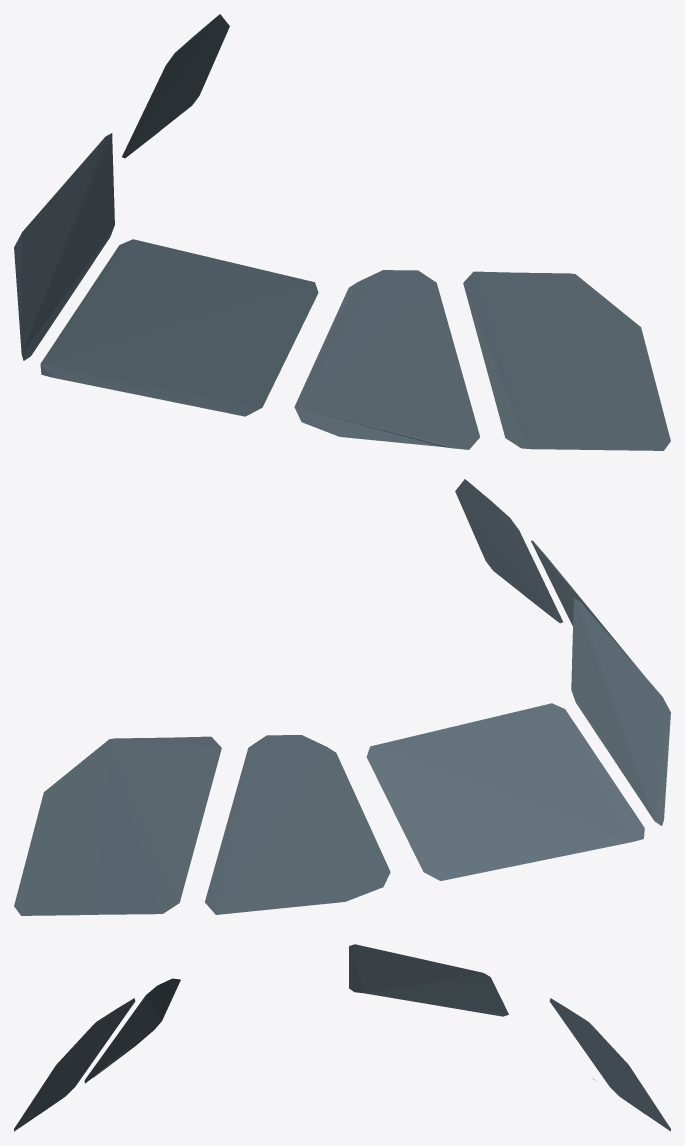
The model's file is a330.glass.glb.
The picture shows the model from 3 angles, top to bottom: view 1: azimuth 30°, elevation 25°; view 2: azimuth 150°, elevation 25°; view 3: azimuth 270°, elevation 25°; orthographic projection. The views are drawn at different scales.
Parts seen in each view (by area): view 1: glass; view 2: glass; view 3: glass.
Boxes of the visible parts, <box> form: glass: <box>14,14,670,450</box>; glass: <box>14,479,670,915</box>; glass: <box>14,944,670,1131</box>.
Bounding box in the file's own units: 1.82 × 0.6173 × 3.68.
